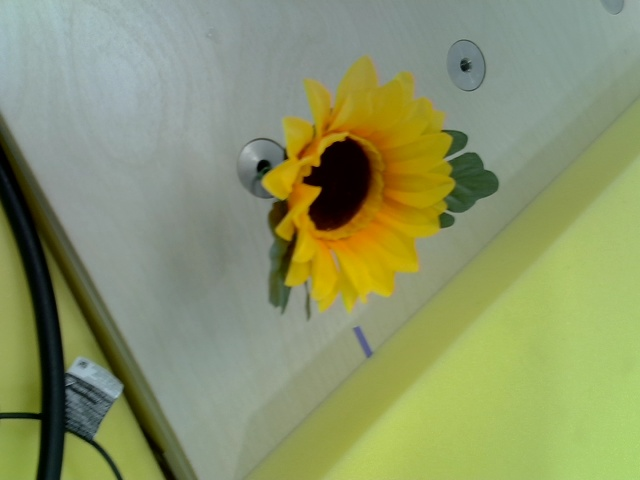해바라기: (261, 57, 454, 312)
